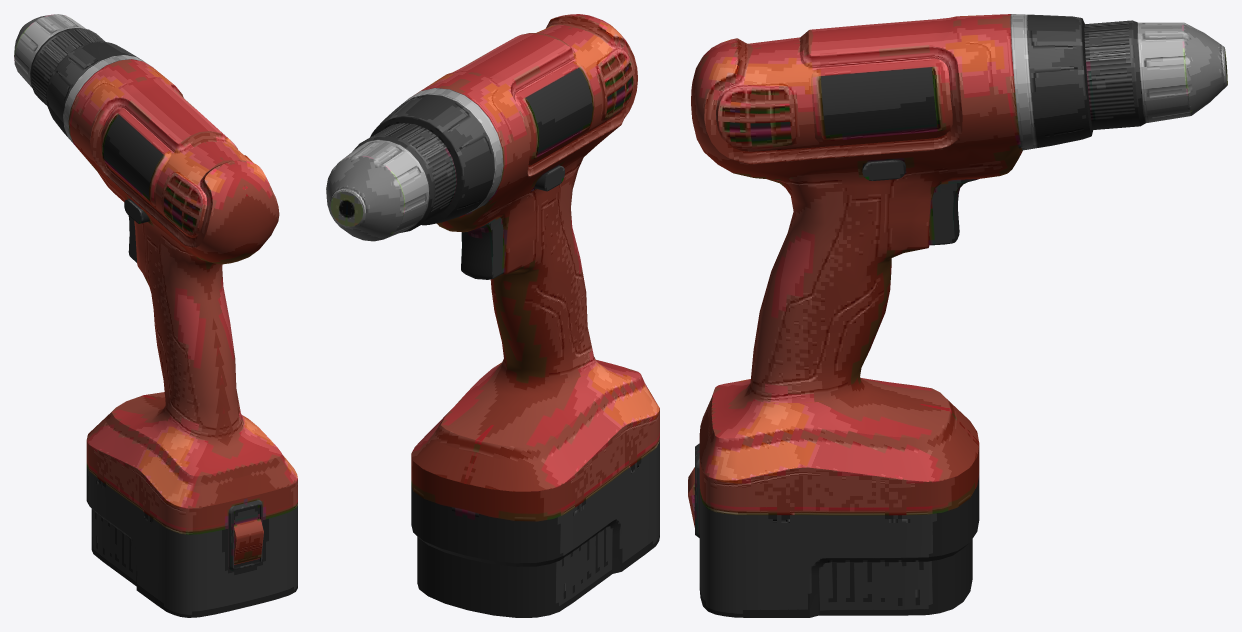
The model's file is drill.dae.
3 renders of one model, left to right at view 1: azimuth 30°, elevation 25°; view 2: azimuth 150°, elevation 25°; view 3: azimuth 270°, elevation 25°, orthographic. The views are drawn at different scales.
Parts seen in each view (by area): view 1: Drill; view 2: Drill; view 3: Drill.
Part boxes in pixels (x1=…): Drill: x1=14, y1=14, x2=297, y2=617; Drill: x1=326, y1=14, x2=659, y2=617; Drill: x1=688, y1=14, x2=1227, y2=617.
Bounding box in the file's own units: 7.56 × 22.29 × 25.49.
Materials: 1 (1 with a texture image).
